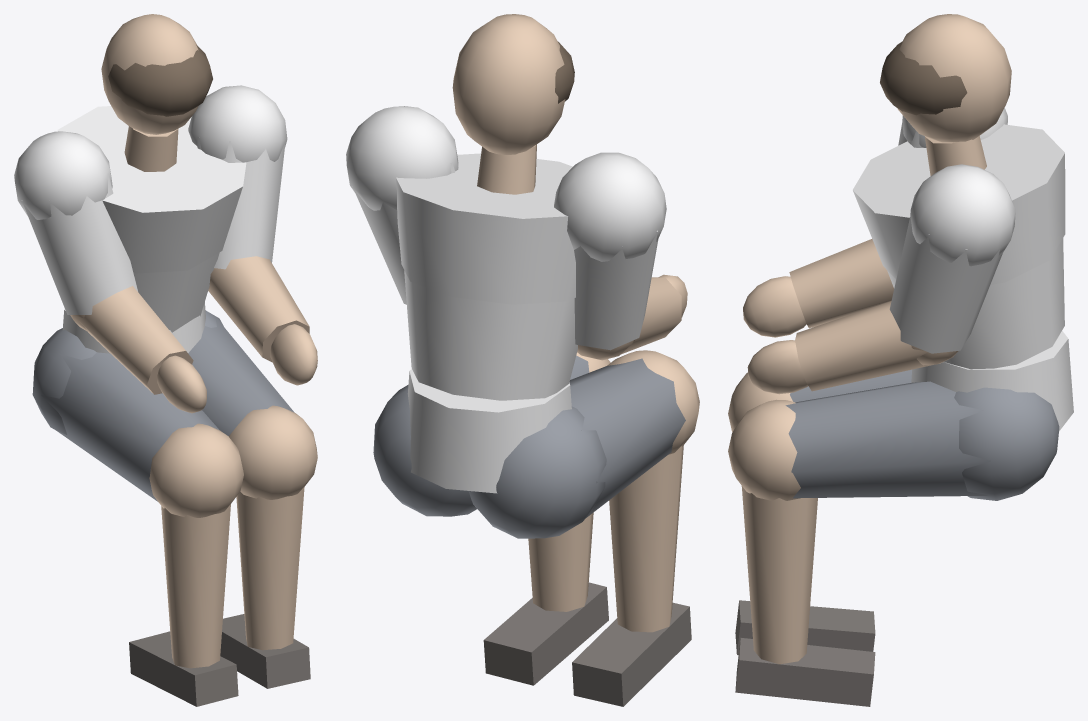
The model's file is crowd_a_lean.glb.
3 renders of one model, left to right at view 1: azimuth 30°, elevation 25°; view 2: azimuth 150°, elevation 25°; view 3: azimuth 270°, elevation 25°, orthographic. The views are drawn at different scales.
Visible parts, largest first — view 1: crowd_a_body; view 2: crowd_a_body; view 3: crowd_a_body.
Part boxes in pixels (left/top/right/bottom): crowd_a_body: left=14, top=14, right=317, bottom=706; crowd_a_body: left=346, top=14, right=699, bottom=706; crowd_a_body: left=728, top=14, right=1073, bottom=706.
Size of the model in its own units: 0.6268 by 1.4 by 0.6661.
